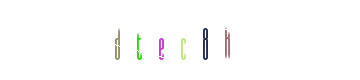8: (140, 0, 220, 80)
C: (138, 0, 218, 80)
D: (98, 0, 178, 80)
E: (134, 0, 214, 80)
K: (165, 0, 245, 80)
T: (121, 0, 201, 80)
